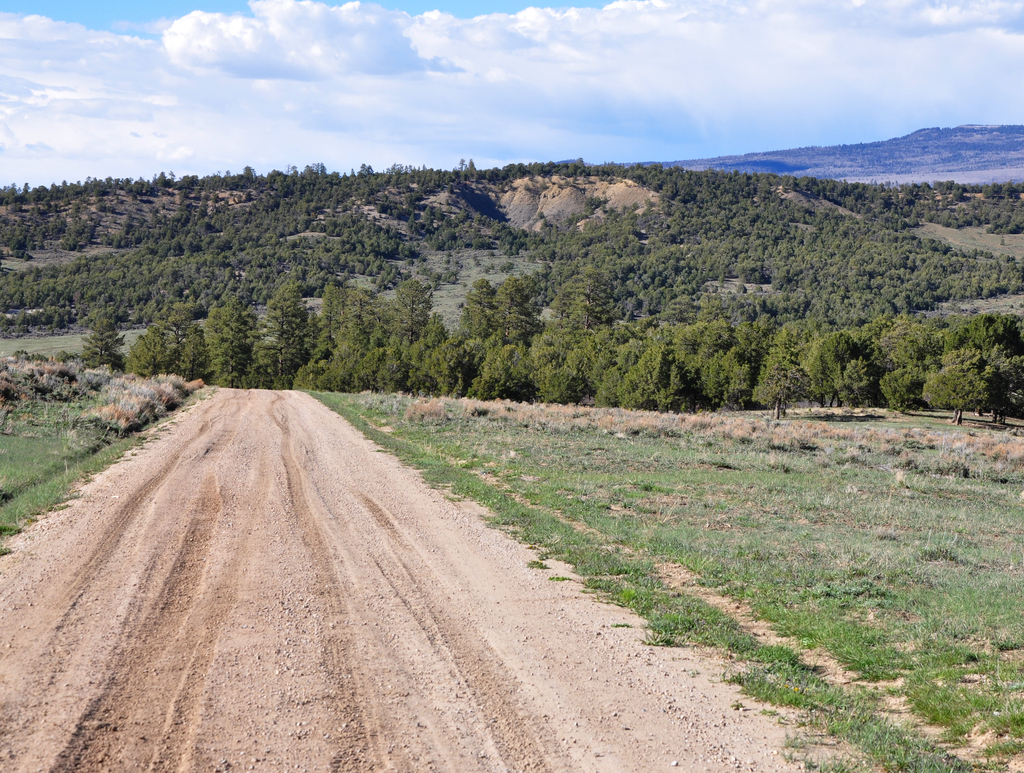Tree: (0, 123, 1024, 425)
